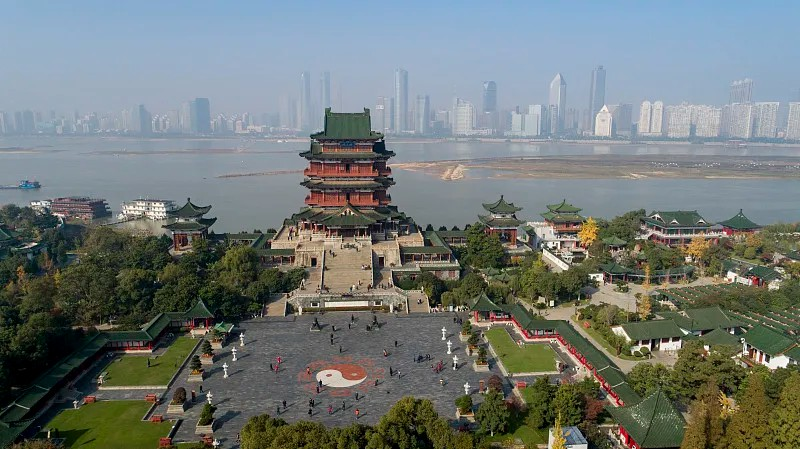Teng: (284, 108, 411, 239)
